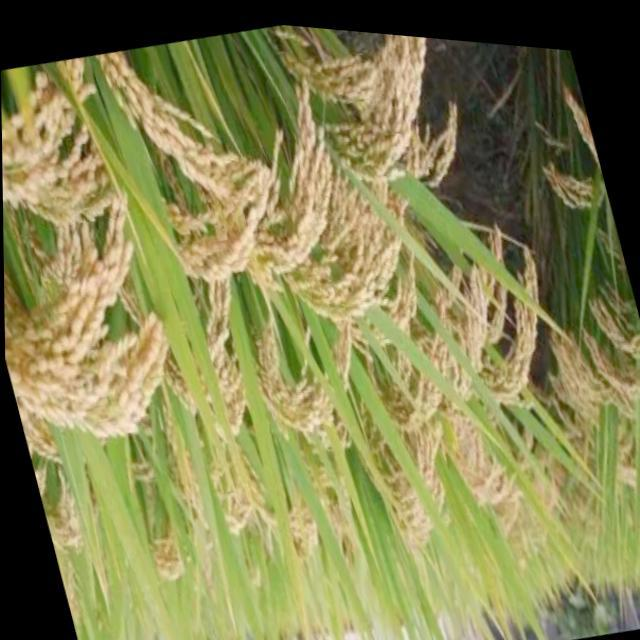Padi: (174, 82, 476, 352), (496, 204, 640, 472), (4, 80, 152, 304), (206, 464, 390, 582)
